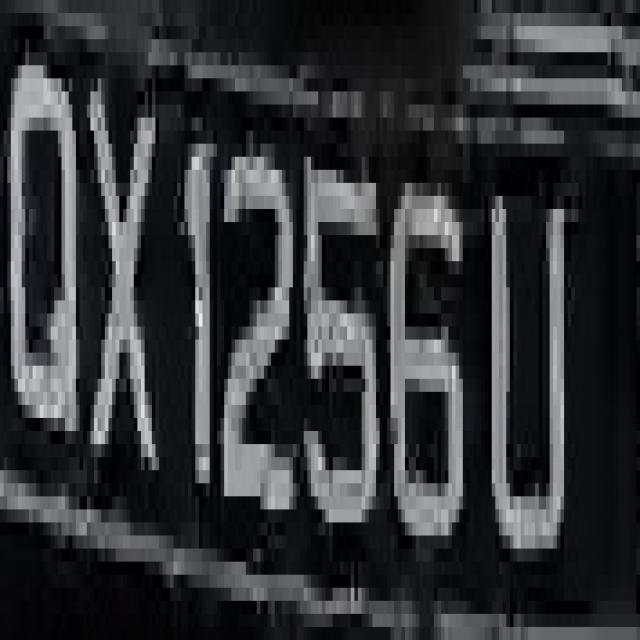1: (180, 39, 220, 536)
2: (217, 65, 296, 588)
5: (293, 118, 380, 562)
6: (380, 170, 470, 601)
Q: (10, 0, 90, 522)
U: (488, 143, 582, 588)
X: (80, 65, 162, 522)
